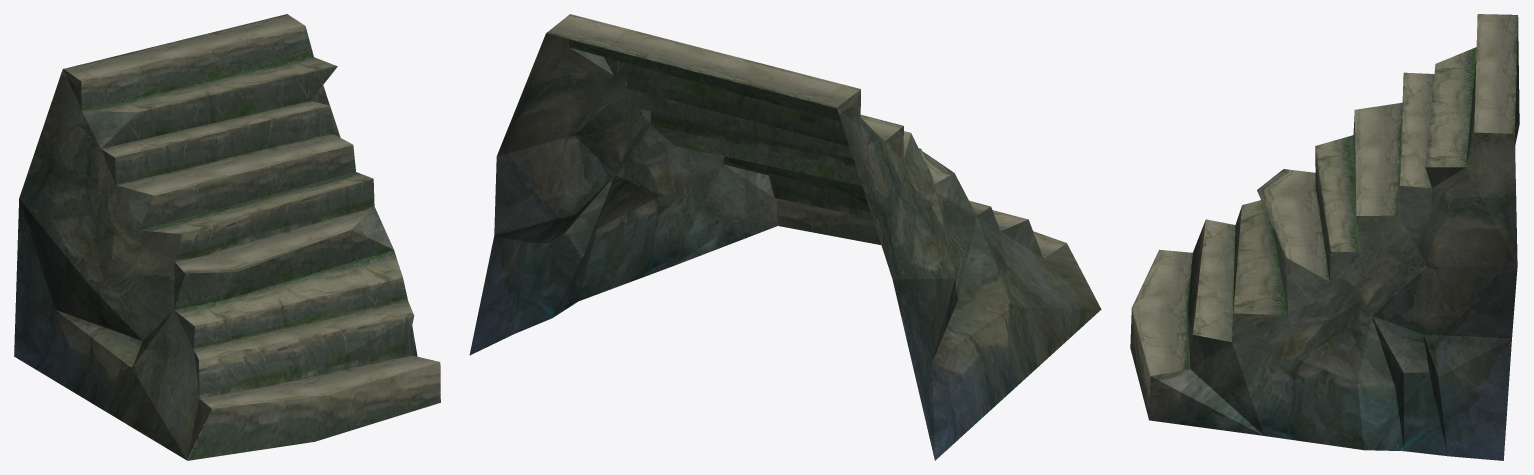
Rendered from environment_stone_shijieti_01_a.FBX.
The picture shows the model from 3 angles, left to right: view 1: azimuth 30°, elevation 25°; view 2: azimuth 150°, elevation 25°; view 3: azimuth 270°, elevation 25°; orthographic projection. The views are drawn at different scales.
Parts seen in each view (by area): view 1: environment_stone_shijieti_01_b0, environment_stone_shijieti_01_a0; view 2: environment_stone_shijieti_01_a0, environment_stone_shijieti_01_b0; view 3: environment_stone_shijieti_01_a0, environment_stone_shijieti_01_b0.
Boxes of the visible parts, <box> form: environment_stone_shijieti_01_b0: <box>64,14,440,460</box>; environment_stone_shijieti_01_a0: <box>14,69,417,460</box>; environment_stone_shijieti_01_a0: <box>469,33,1101,460</box>; environment_stone_shijieti_01_b0: <box>546,14,1066,258</box>; environment_stone_shijieti_01_a0: <box>1149,14,1519,460</box>; environment_stone_shijieti_01_b0: <box>1130,14,1517,419</box>.
Size of the model in its own units: 206 by 150 by 180.
2 materials, 2 textured.
